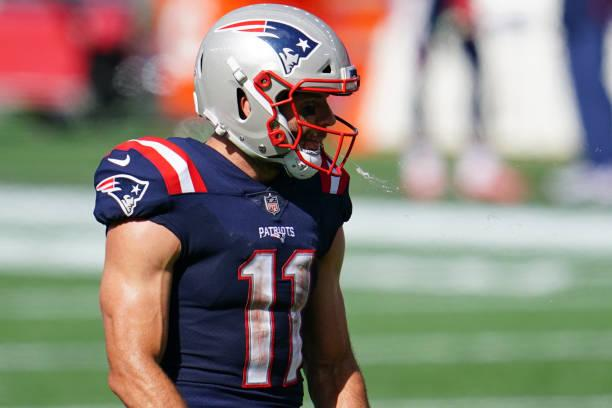Spitting: (177, 1, 422, 198)
